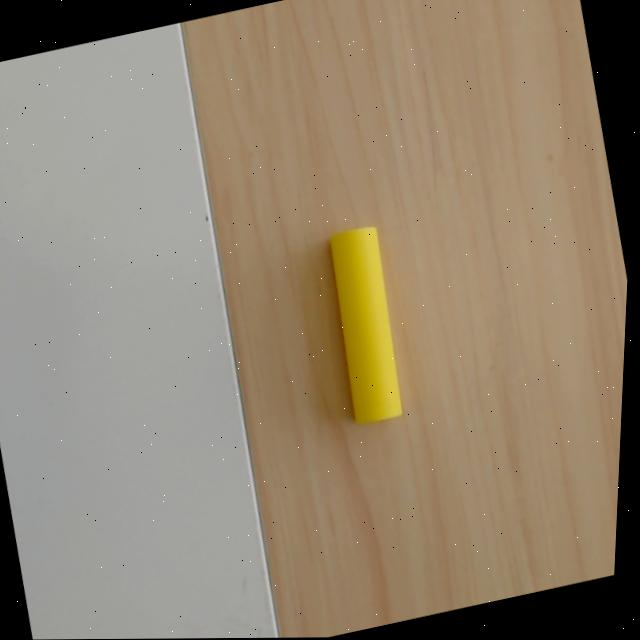Silinder-Kuning-10025: (328, 224, 403, 423)
